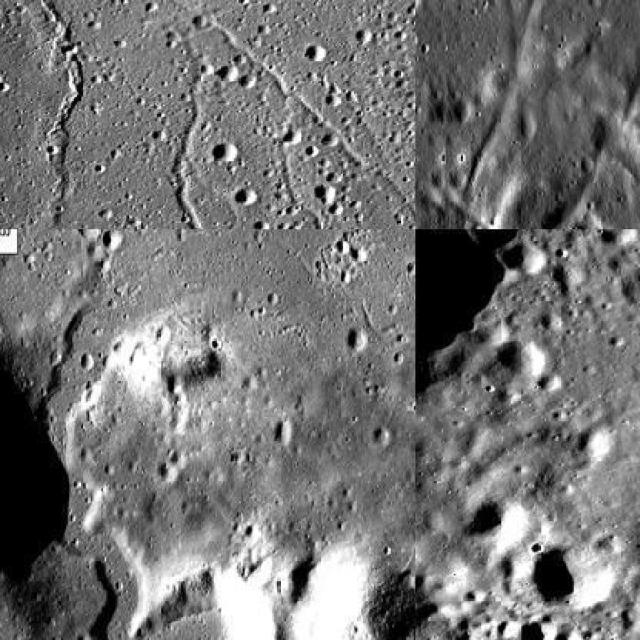rille: (22, 286, 266, 639), (58, 0, 414, 228), (171, 26, 378, 228), (512, 0, 638, 228), (0, 0, 86, 175), (276, 137, 326, 228)
